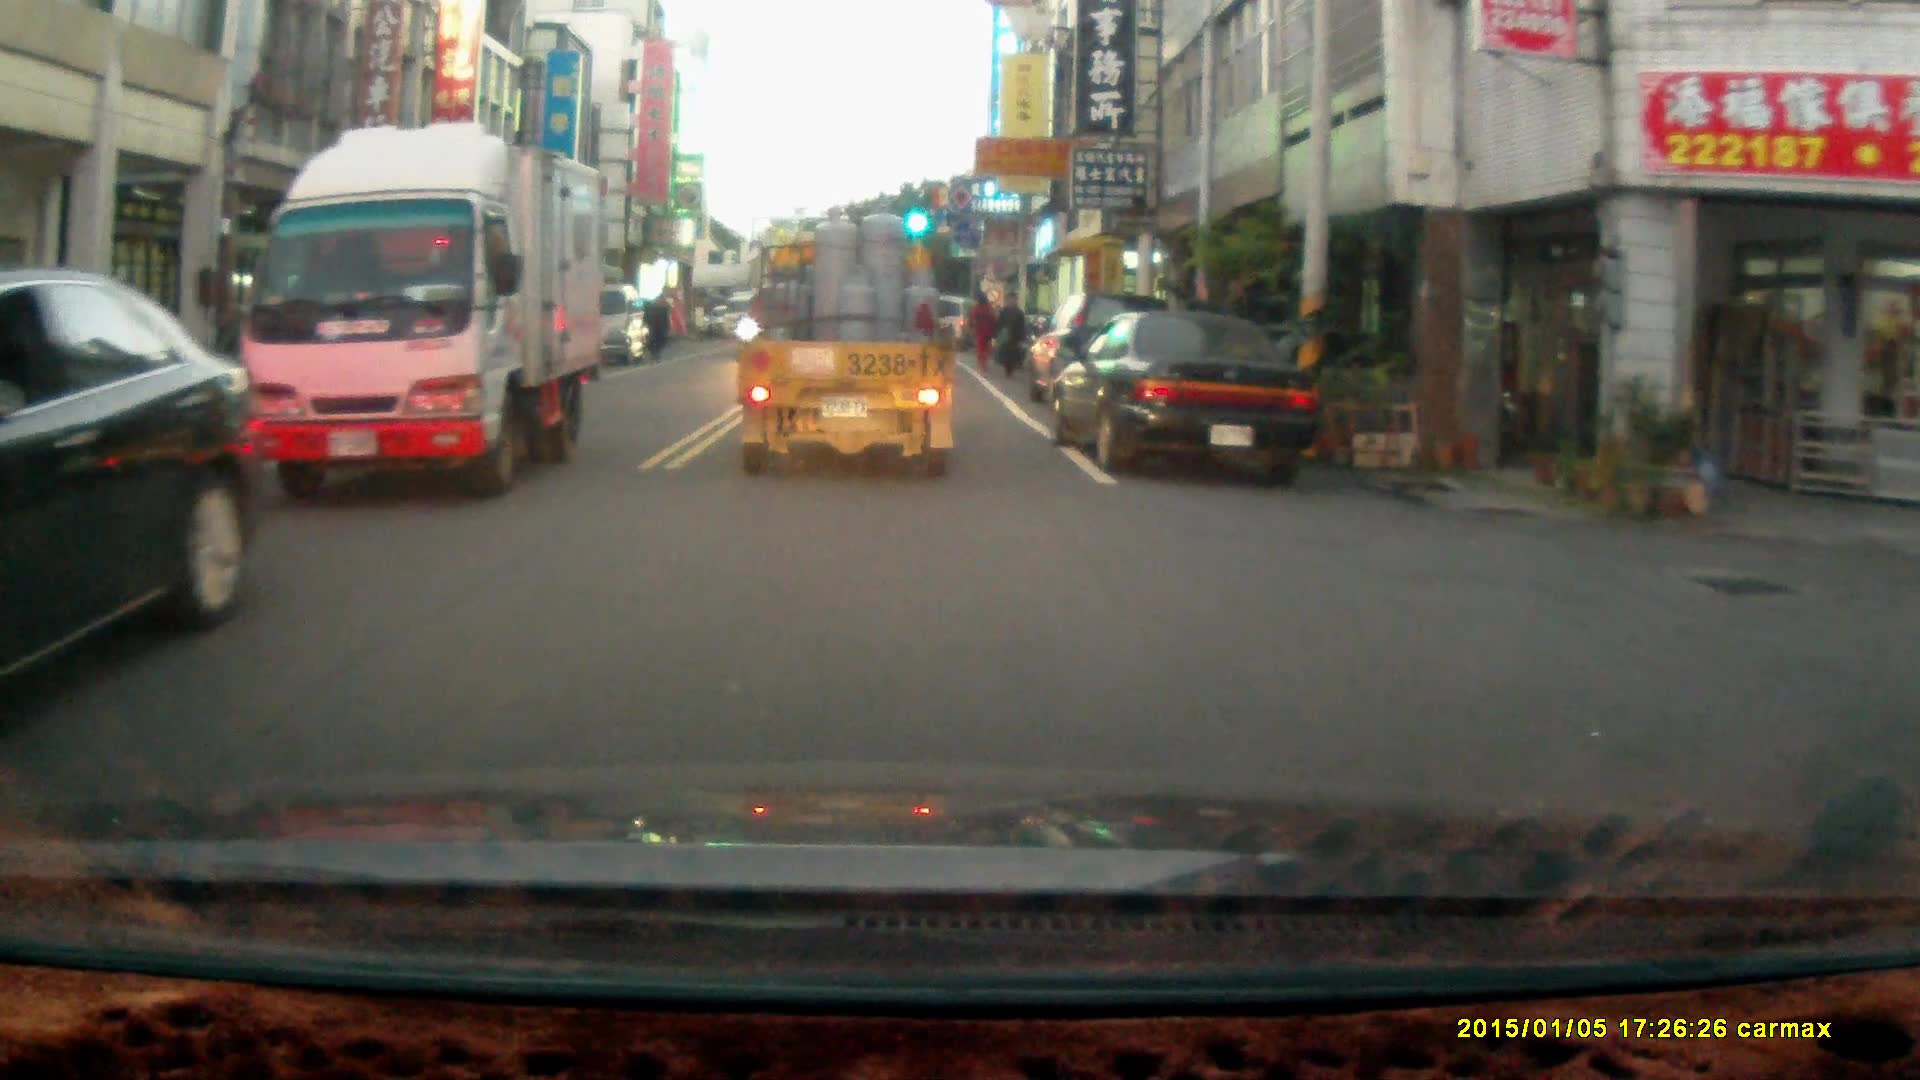pedestrian: (990, 291, 1024, 383), (963, 287, 996, 366), (639, 294, 670, 362)
vehicle: (239, 125, 606, 505), (1, 266, 268, 698), (730, 192, 964, 483), (1053, 308, 1322, 480)
